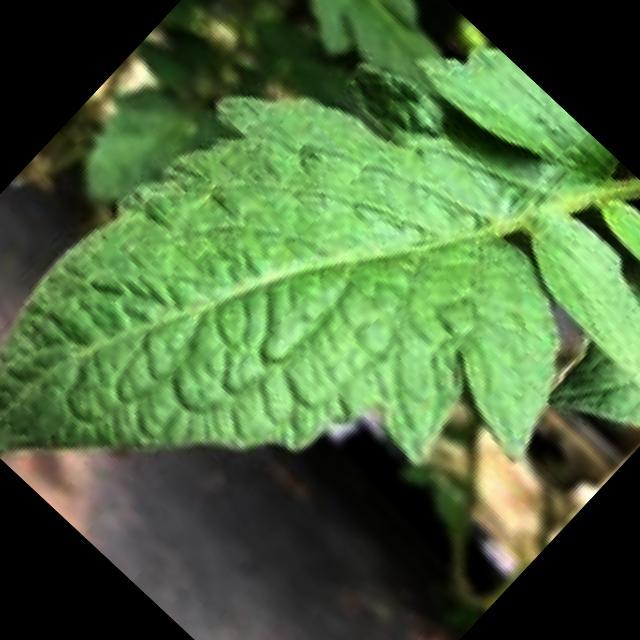Tomato healthy leaf: (0, 44, 640, 469)
